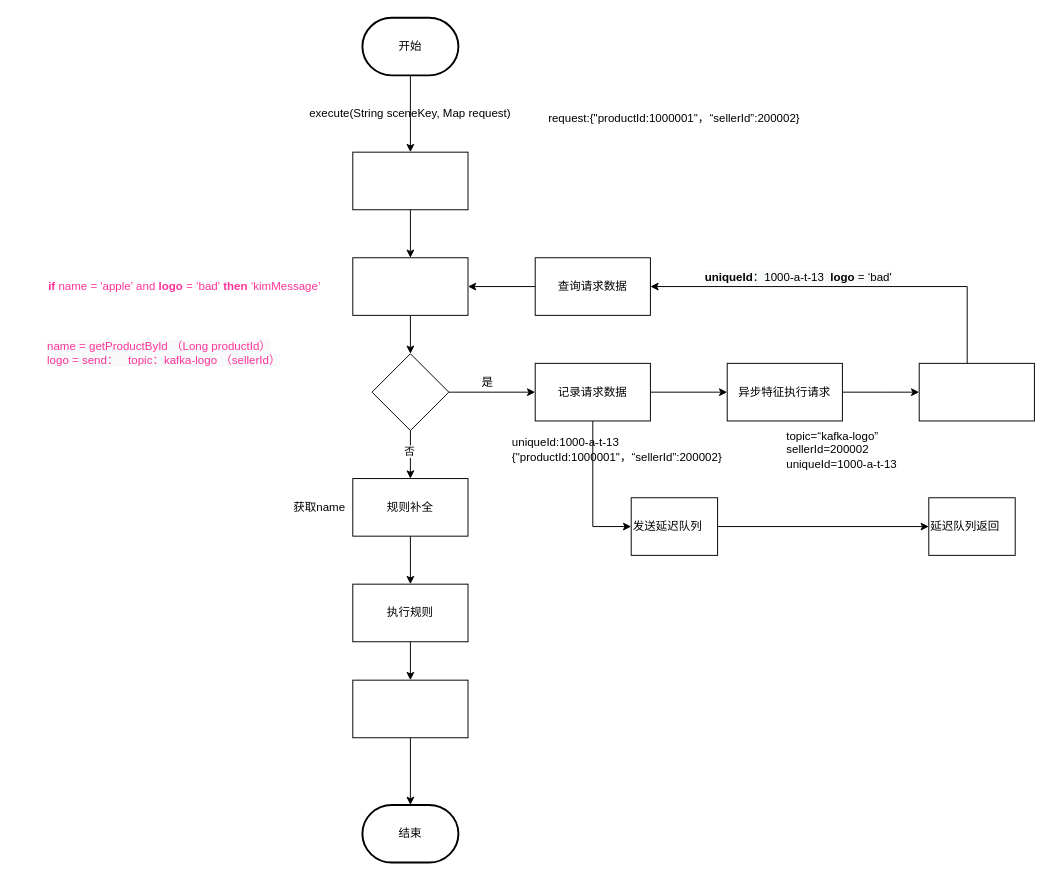
The diagram is 1051 pixels wide and 879 high, and some of its shapes have lost their labels. The centre of each missing label's shape, as x and y in pixels:
动作下发: the point at 410,708
是否存在异步特征: the point at 410,392
服务方返回数据: the point at 976,391
获取执行上下文: the point at 410,180
解析规则表达式: the point at 410,286
